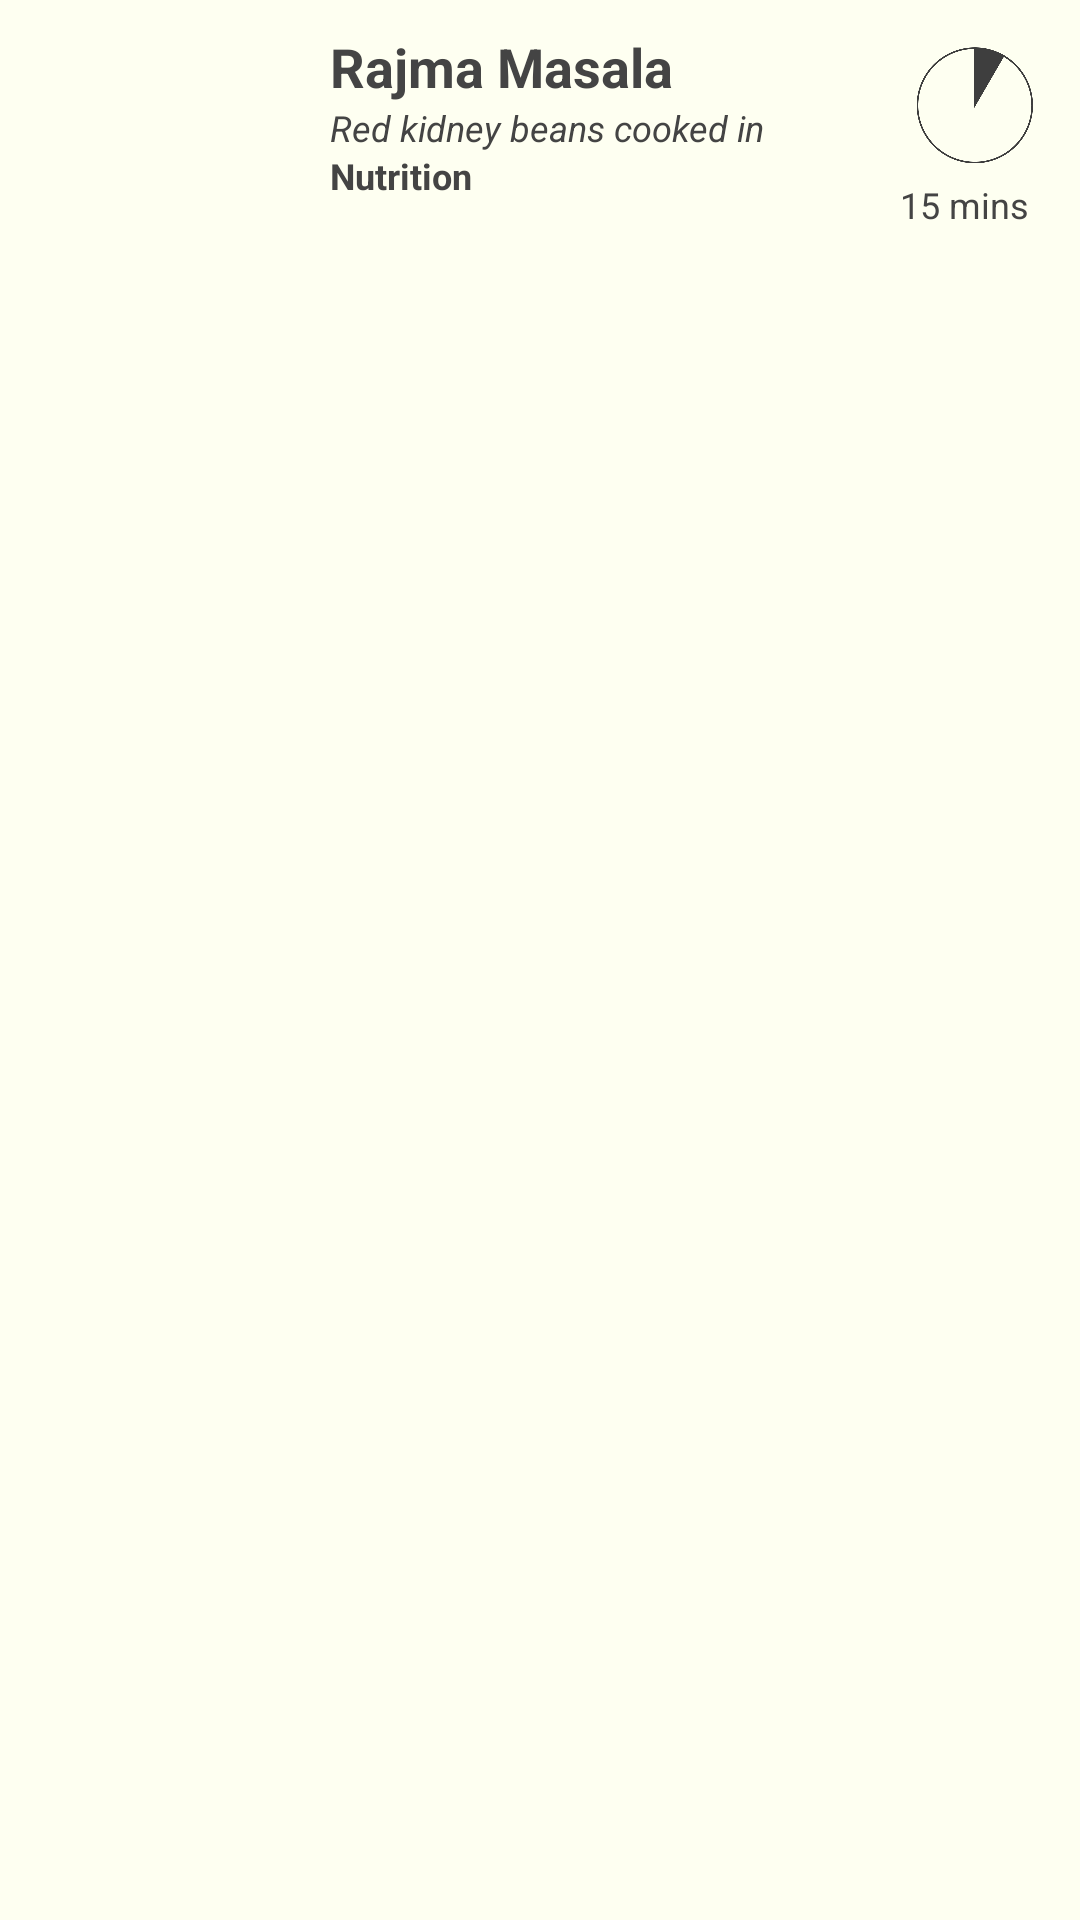

Icons on this 1080x1920 Android screen, each with the point to tap as (x,y):
clock: (975,105)
